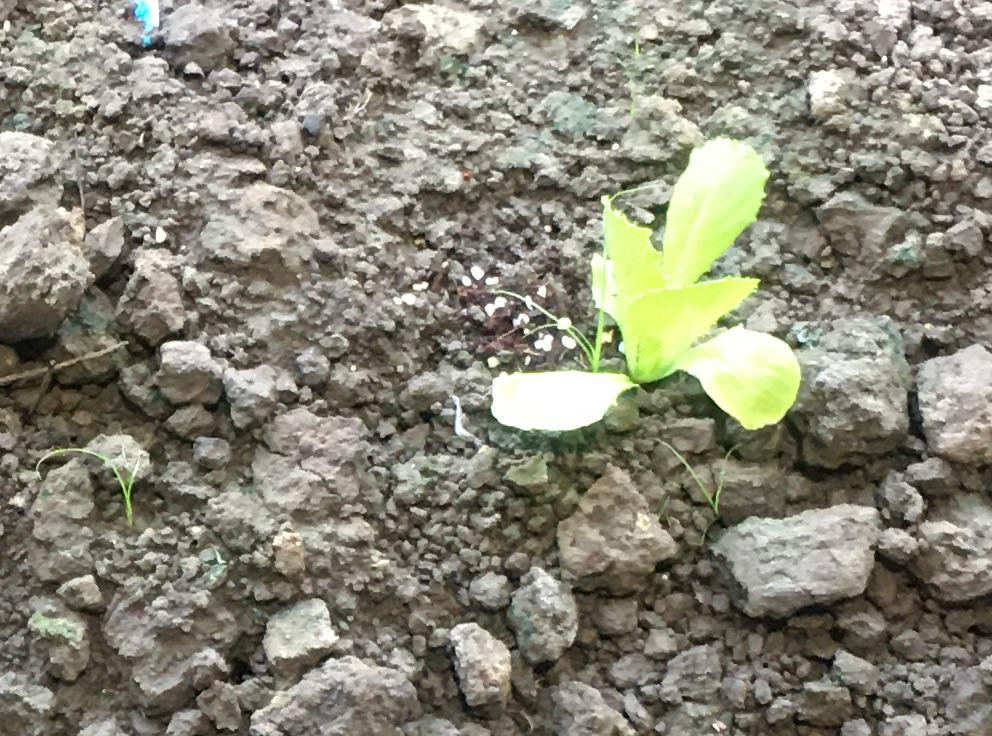block: (780, 324, 901, 477), (711, 504, 873, 612), (555, 464, 675, 595), (1, 204, 89, 344), (919, 342, 992, 464)
